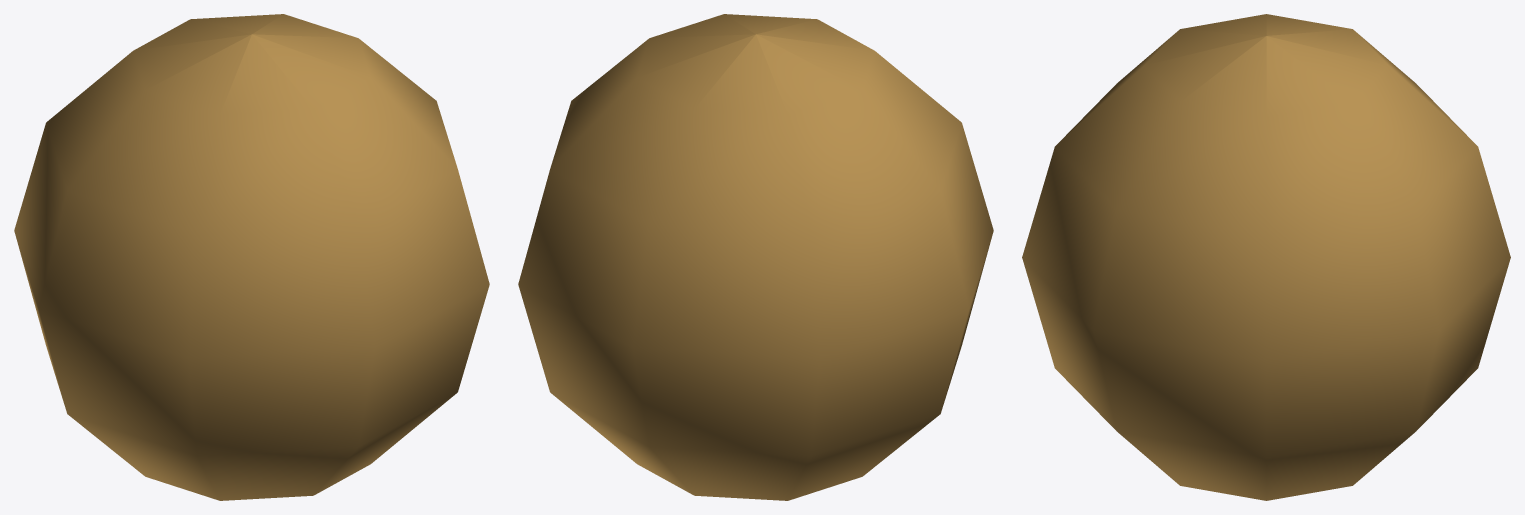
File: seed.obj
The picture shows the model from 3 angles, left to right: view 1: azimuth 30°, elevation 25°; view 2: azimuth 150°, elevation 25°; view 3: azimuth 270°, elevation 25°; orthographic projection.
Size of the model in its own units: 0.8 by 0.8 by 0.8.
